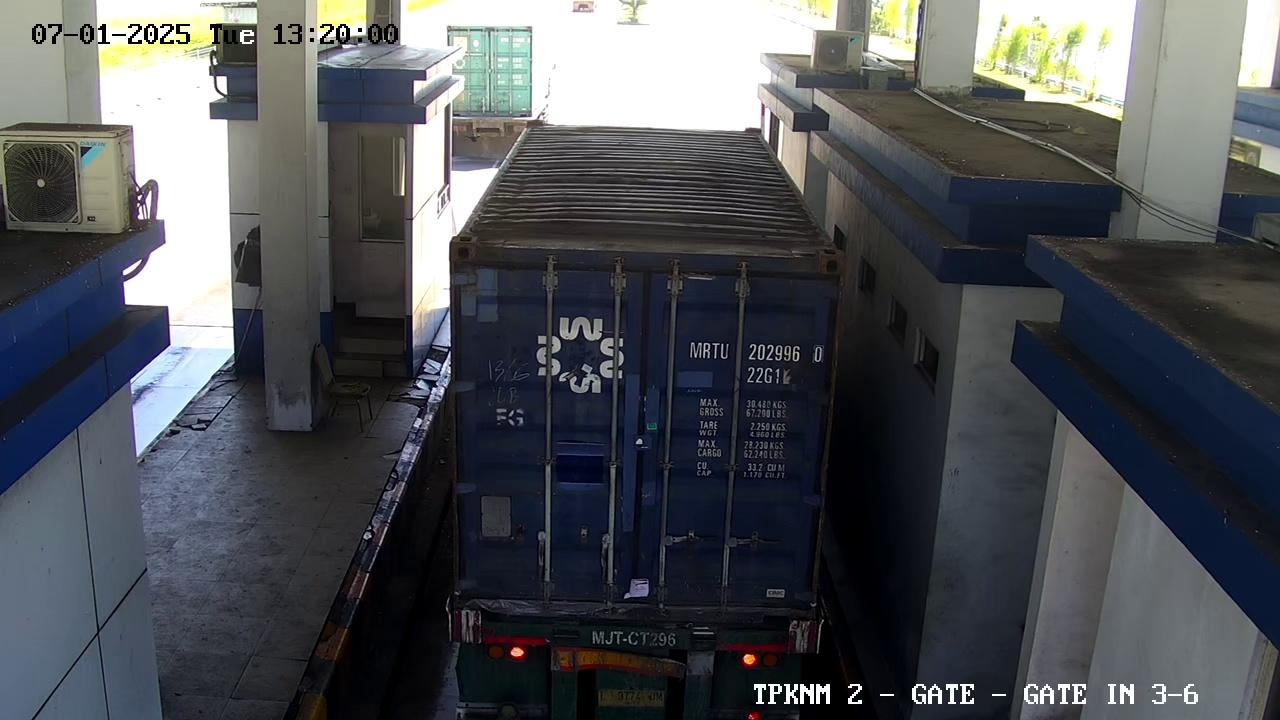Container_ID: (676, 320, 826, 394)
